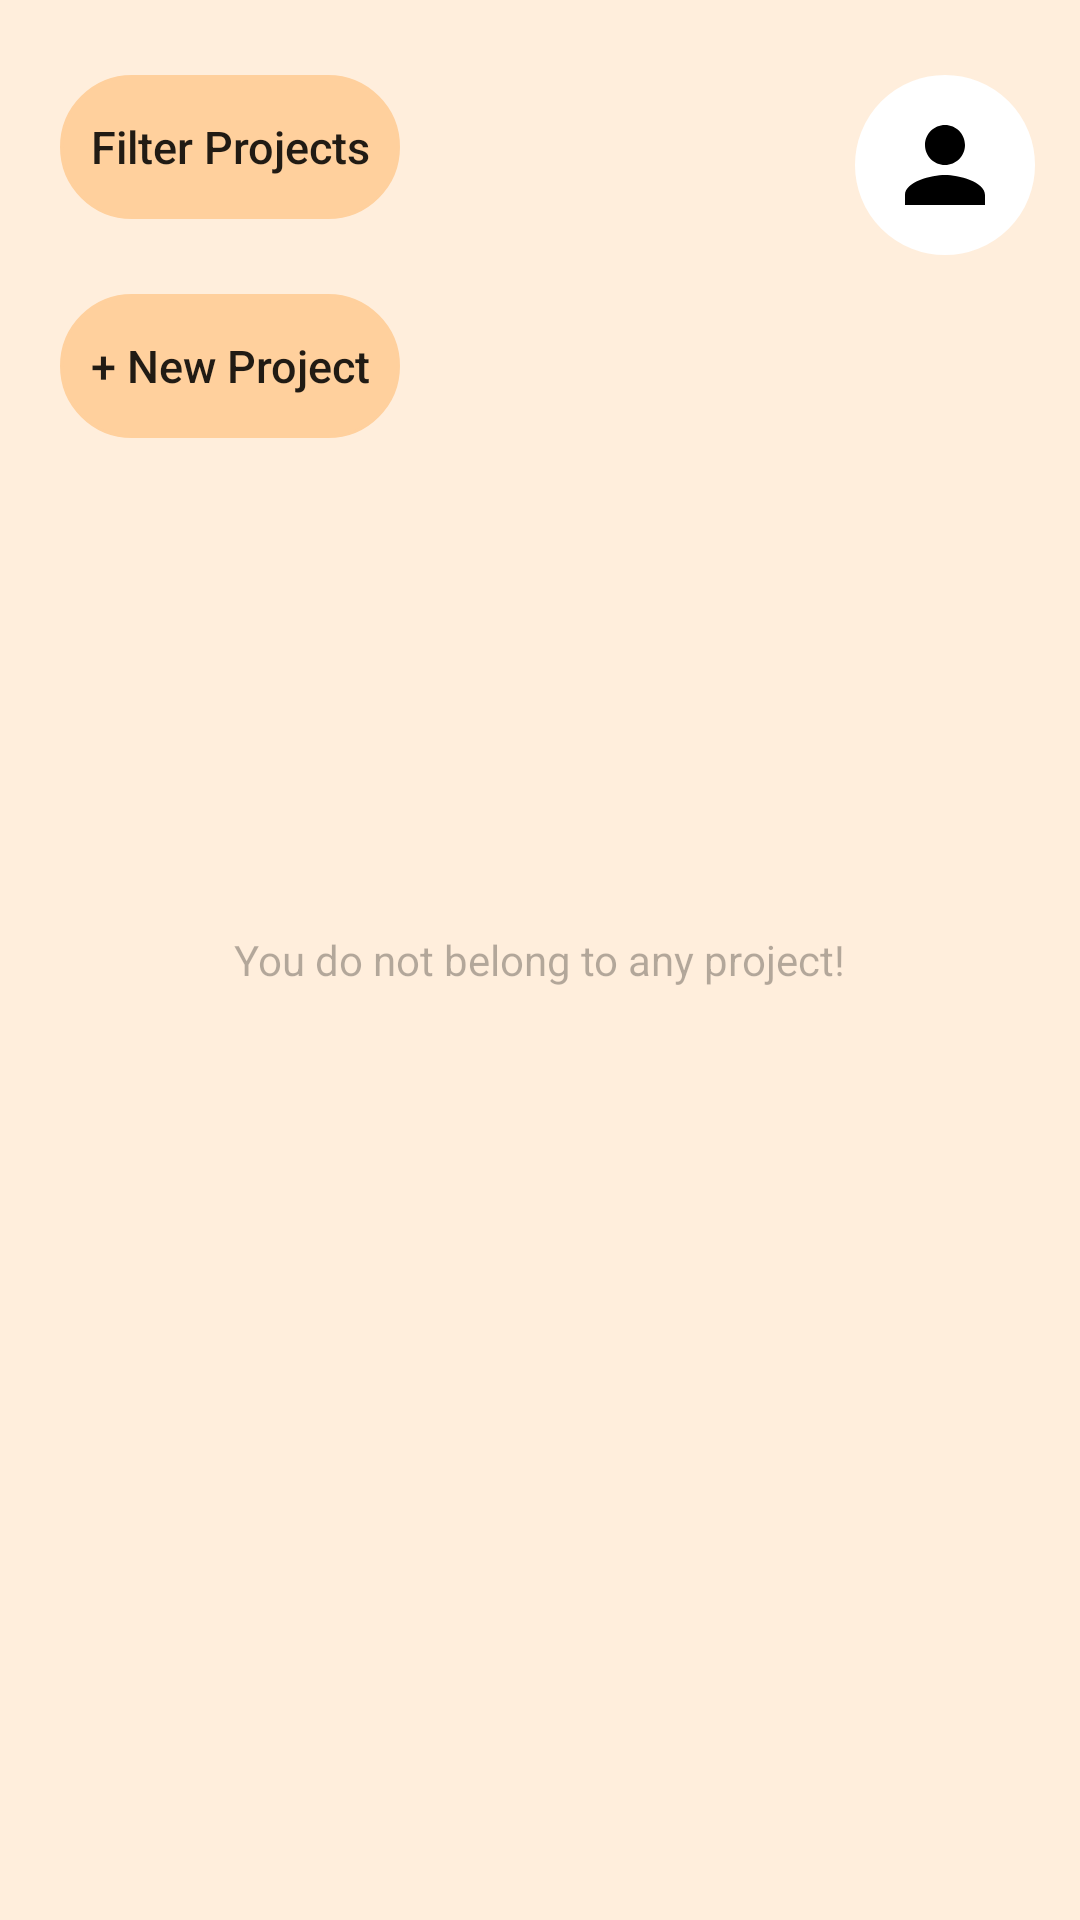

Icons on this 1080x1920 Android screen, each with its box as (x1, y1, x2, y2):
person: (855, 75, 1035, 255)
